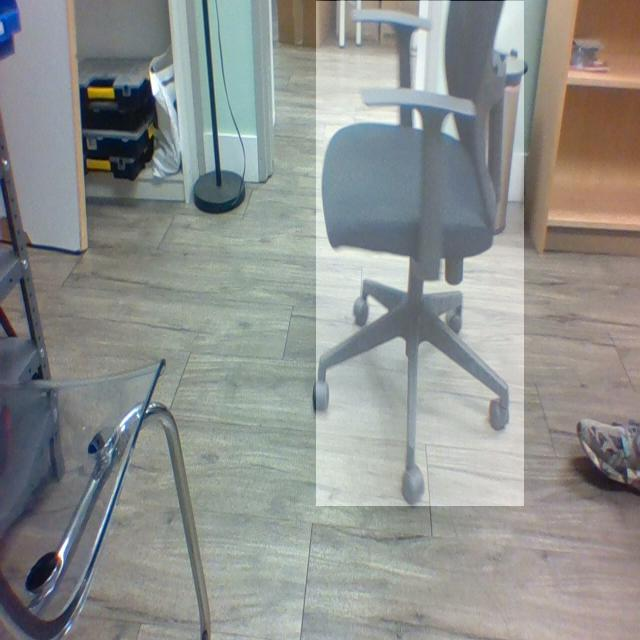black-chair: (316, 1, 525, 507)
